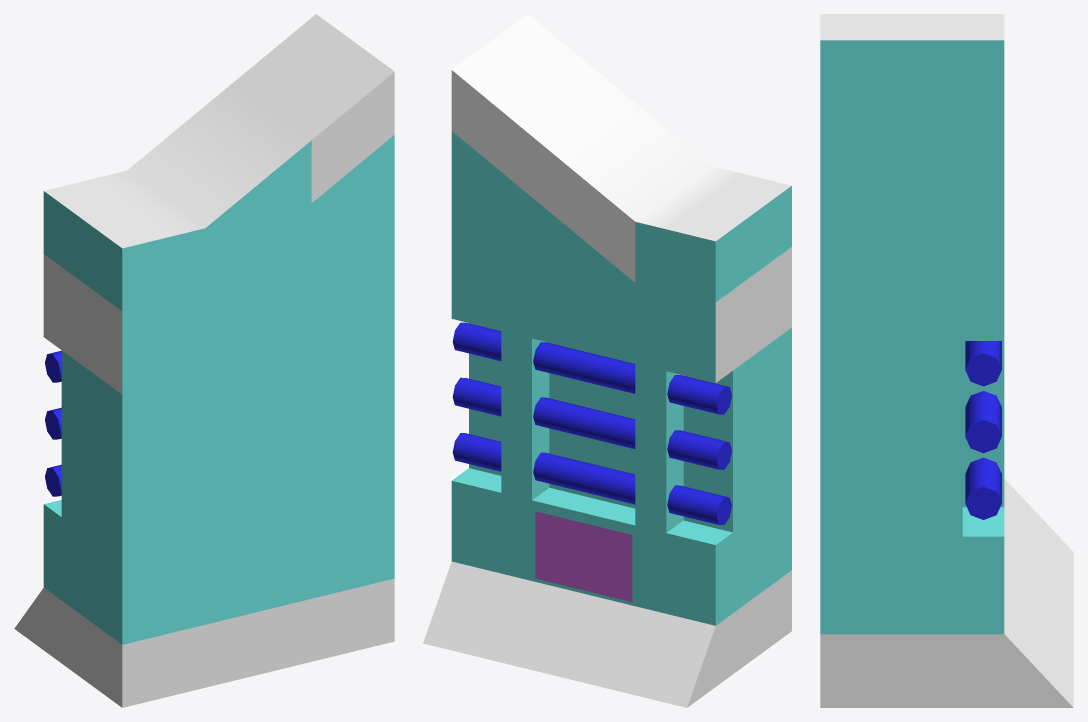
Rendered from WallBaseToLow.fbx.
3 renders of one model, left to right at view 1: azimuth 30°, elevation 25°; view 2: azimuth 150°, elevation 25°; view 3: azimuth 270°, elevation 25°, orthographic. The views are drawn at different scales.
Visible parts, largest first — view 1: BaseToLow; view 2: BaseToLow; view 3: BaseToLow.
Boxes of the visible parts, x1,y1,x2,y2 form: BaseToLow: (14,14,394,707); BaseToLow: (423,14,791,707); BaseToLow: (820,14,1073,707).
Size of the model in its own units: 78.74 by 157 by 54.17.
